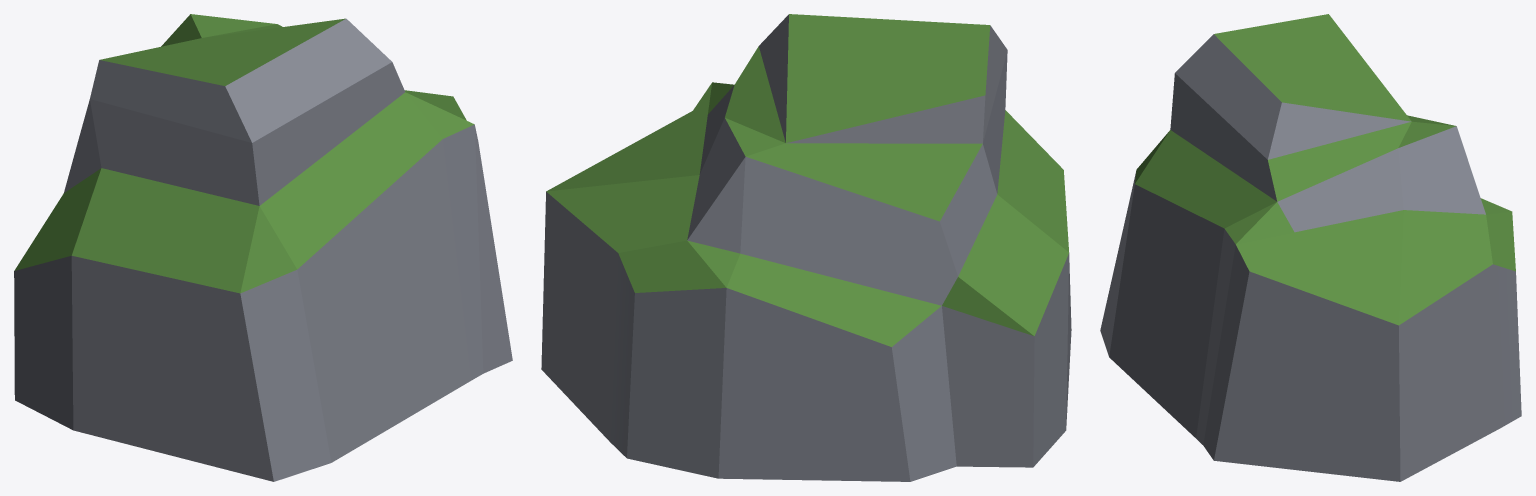
Rendered from Rock_Moss_7.glb.
3 renders of one model, left to right at view 1: azimuth 30°, elevation 25°; view 2: azimuth 150°, elevation 25°; view 3: azimuth 270°, elevation 25°, orthographic. The views are drawn at different scales.
Visible parts, largest first — view 1: Rock_Moss_7; view 2: Rock_Moss_7; view 3: Rock_Moss_7.
Boxes of the visible parts, x1,y1,x2,y2 form: Rock_Moss_7: [14, 14, 512, 481]; Rock_Moss_7: [541, 14, 1071, 481]; Rock_Moss_7: [1100, 14, 1521, 481].
Size of the model in its own units: 1.28 by 0.9081 by 1.14.
